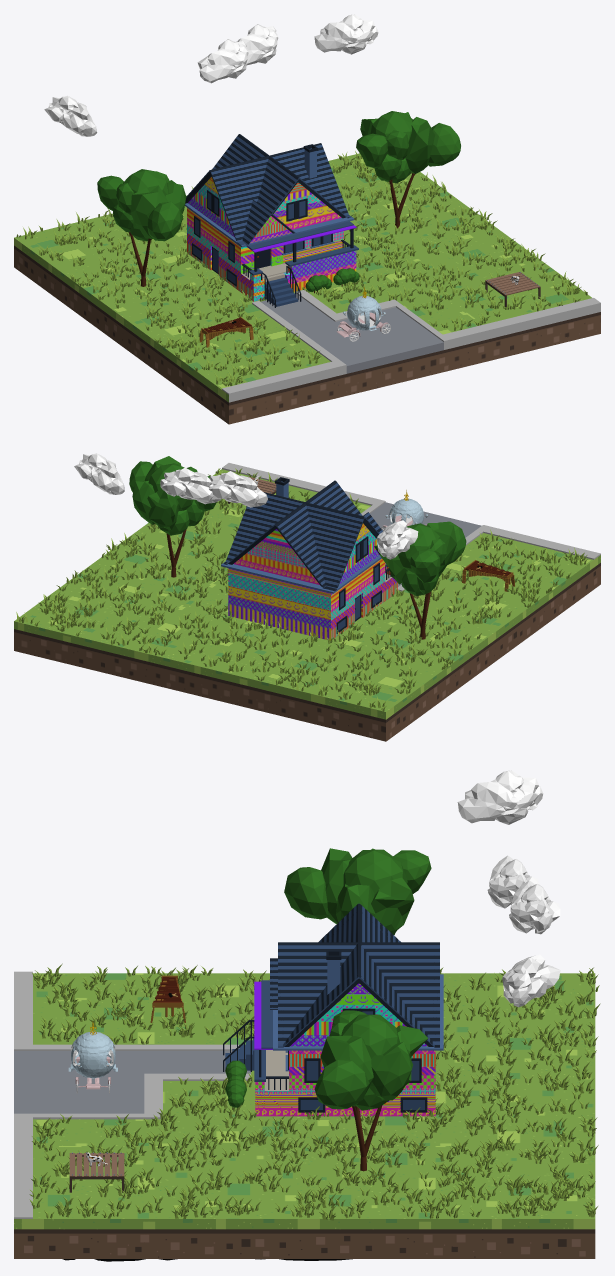
3 renders of one model, top to bottom at view 1: azimuth 30°, elevation 25°; view 2: azimuth 150°, elevation 25°; view 3: azimuth 270°, elevation 25°, orthographic. The views are drawn at different scales.
Visible parts, largest first — view 1: Cube.006, Cube.676, Circle.012_Grass_0.192, Cube.007, tree, tree.001, VEHICLES_FANTASY_CARRIAGE, Cube.009, OBJRANDOM_MARIMBA; view 2: Cube.006, Cube.676, Circle.012_Grass_0.192, Cube.007, tree.001, tree, VEHICLES_FANTASY_CARRIAGE, OBJRANDOM_MARIMBA; view 3: Cube.006, Circle.012_Grass_0.192, Cube.676, tree, Cube.007, tree.001, VEHICLES_FANTASY_CARRIAGE, Cube.009, OBJRANDOM_MARIMBA.
Part boxes in pixels (x1,y1,x2,y2): Cube.006: [14, 153, 600, 424]; Cube.676: [185, 134, 358, 307]; Circle.012_Grass_0.192: [16, 151, 587, 386]; Cube.007: [44, 14, 378, 136]; tree: [356, 111, 460, 228]; tree.001: [97, 169, 186, 286]; VEHICLES_FANTASY_CARRIAGE: [336, 287, 390, 341]; Cube.009: [485, 272, 540, 306]; OBJRANDOM_MARIMBA: [199, 316, 253, 347]; Cube.006: [14, 463, 600, 741]; Cube.676: [221, 477, 397, 640]; Circle.012_Grass_0.192: [16, 468, 587, 711]; Cube.007: [74, 453, 418, 559]; tree.001: [374, 521, 466, 639]; tree: [129, 456, 216, 577]; VEHICLES_FANTASY_CARRIAGE: [381, 490, 428, 530]; OBJRANDOM_MARIMBA: [462, 560, 514, 591]; Cube.006: [14, 971, 595, 1258]; Circle.012_Grass_0.192: [29, 963, 600, 1220]; Cube.676: [223, 903, 443, 1116]; tree: [314, 1010, 427, 1171]; Cube.007: [457, 770, 560, 1007]; tree.001: [284, 848, 431, 935]; VEHICLES_FANTASY_CARRIAGE: [68, 1021, 117, 1093]; Cube.009: [69, 1152, 124, 1192]; OBJRANDOM_MARIMBA: [150, 975, 185, 1022].
Bounding box in the file's own units: 4071 × 2149 × 4040.
35 materials, 7 textured.
